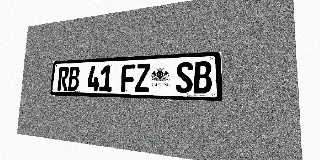1: (99, 65, 113, 92)
4: (87, 66, 100, 91)
B: (193, 61, 212, 94), (68, 66, 80, 91)
F: (121, 64, 135, 92)
R: (57, 67, 69, 91)
S: (176, 62, 193, 93)
Z: (135, 63, 150, 92)
